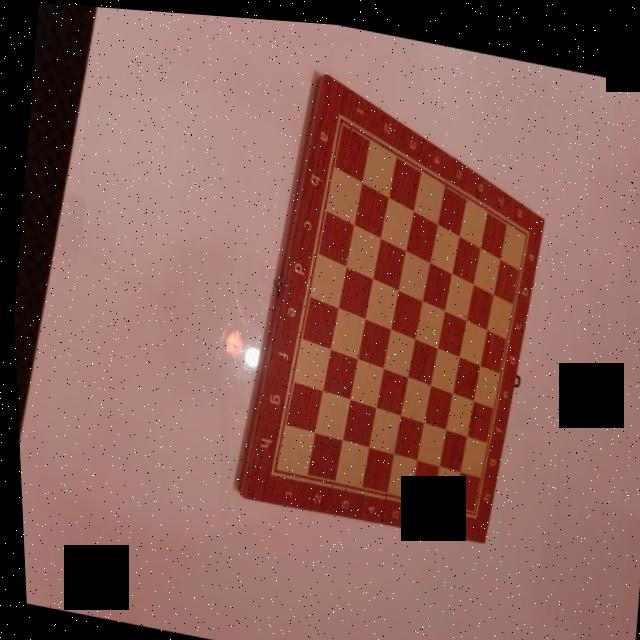chess-table-corners: (330, 102, 345, 119), (518, 216, 532, 234), (262, 462, 274, 478), (466, 501, 474, 514)
